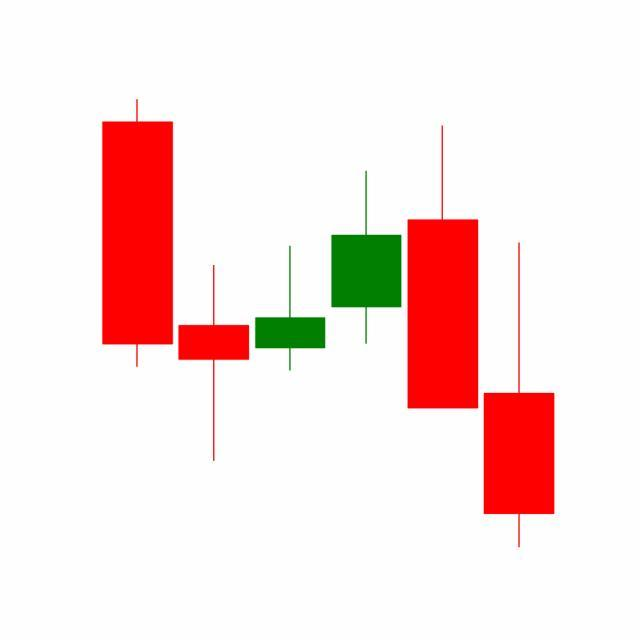Three Outside Up-Down: (326, 121, 555, 549)
